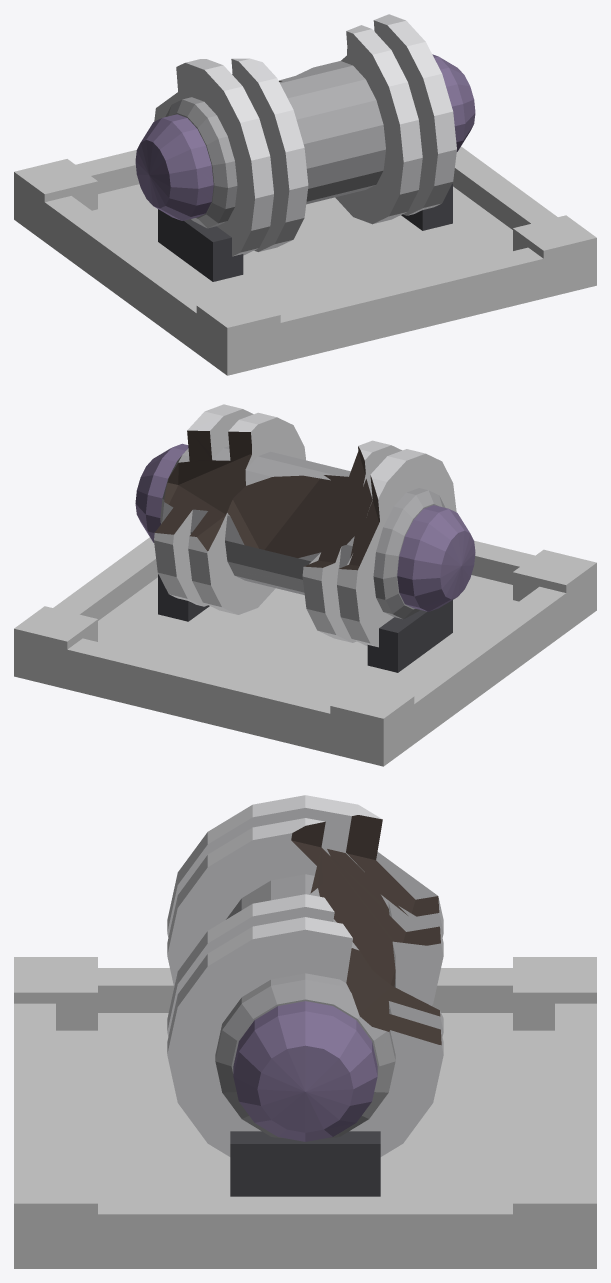
File: vge_d_fueloptimizer.obj
3 renders of one model, top to bottom at view 1: azimuth 30°, elevation 25°; view 2: azimuth 150°, elevation 25°; view 3: azimuth 270°, elevation 25°, orthographic. The views are drawn at different scales.
Parts seen in each view (by area): view 1: vge_d_fueloptimizer; view 2: vge_d_fueloptimizer; view 3: vge_d_fueloptimizer.
Part boxes in pixels (x1=…): vge_d_fueloptimizer: x1=14, y1=14, x2=596, y2=375; vge_d_fueloptimizer: x1=14, y1=404, x2=596, y2=766; vge_d_fueloptimizer: x1=14, y1=795, x2=596, y2=1268.
Size of the model in its own units: 1.94 by 1.04 by 1.94.
